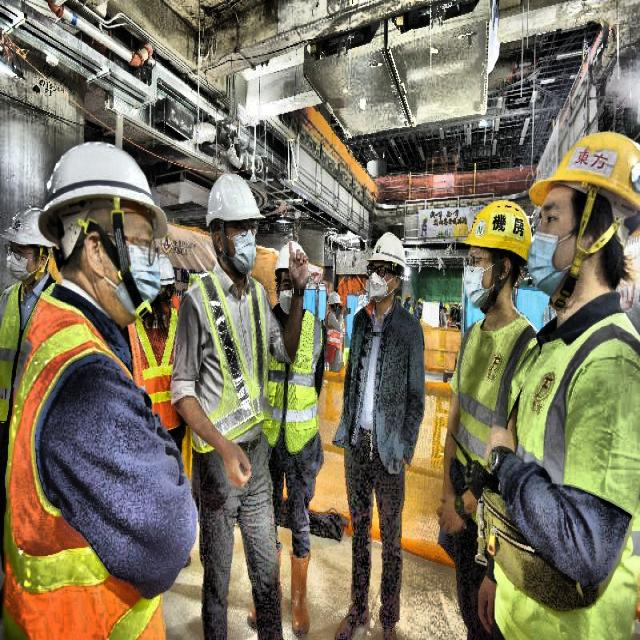safety_helmet: (37, 138, 171, 246), (527, 128, 639, 223), (204, 170, 266, 282), (461, 198, 534, 267), (0, 204, 52, 254), (370, 229, 410, 274), (279, 236, 314, 278)
safety_jacket: (2, 283, 170, 639), (178, 274, 278, 441), (266, 312, 328, 476), (126, 288, 187, 439), (0, 283, 68, 409)
